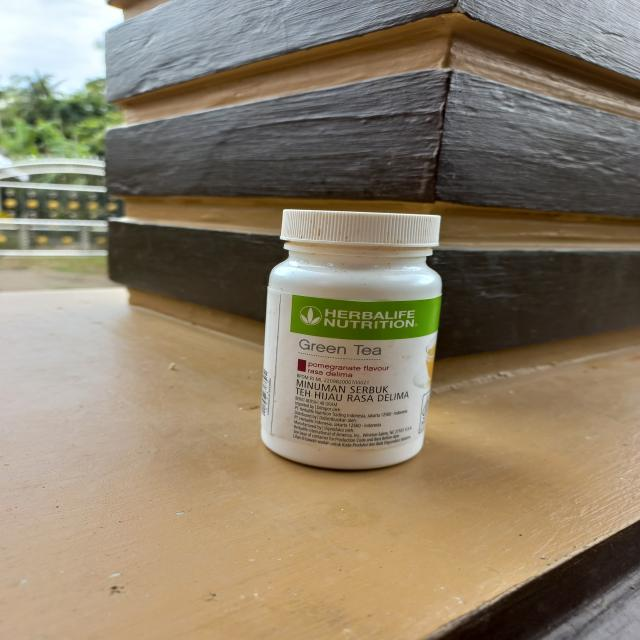Green-Tea: (193, 161, 589, 565)
